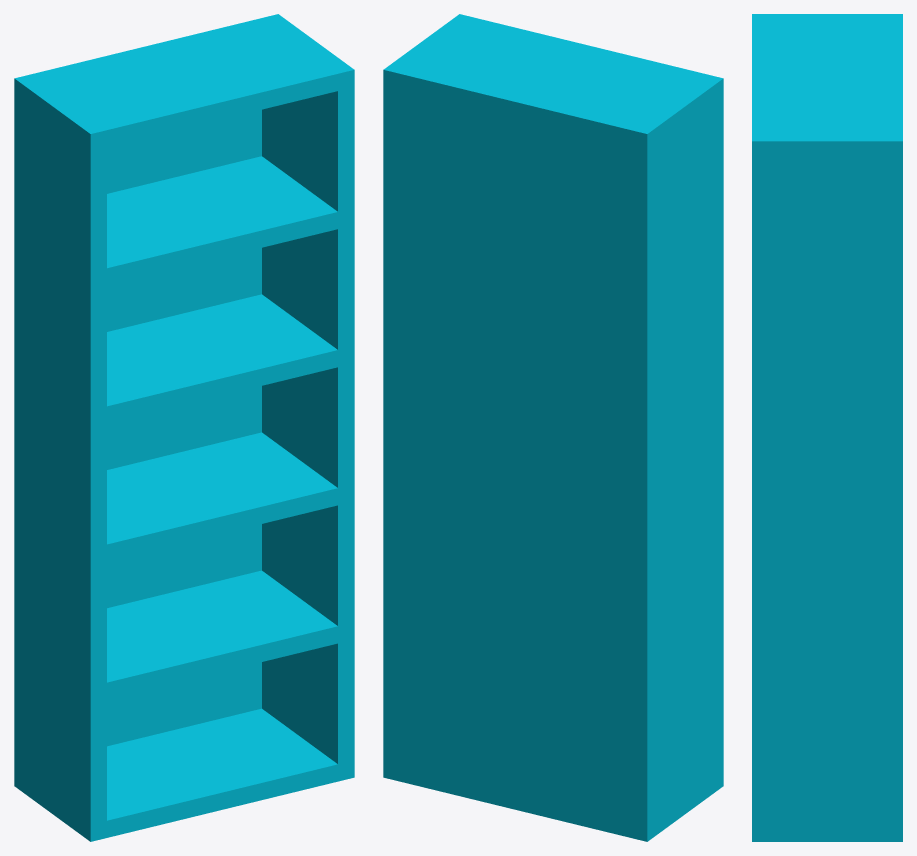
File: Large Shelf.glb
3 renders of one model, left to right at view 1: azimuth 30°, elevation 25°; view 2: azimuth 150°, elevation 25°; view 3: azimuth 270°, elevation 25°, orthographic.
Parts seen in each view (by area): view 1: LS Wall 1, LS Wall 3, LS Wall 2, Shelf 6, Shelf 1, Shelf 4, Shelf 2, Shelf 3, Shelf 5; view 2: LS Wall 2, LS Wall 1, Shelf 6, LS Wall 3, Shelf 1, Shelf 5, Shelf 4, Shelf 2, Shelf 3; view 3: LS Wall 3, Shelf 6, Shelf 5, Shelf 4, Shelf 3, Shelf 2.
Boxes of the visible parts, box(x1,y1,x2,y2) form: LS Wall 1: box(14, 96, 106, 841); LS Wall 3: box(262, 87, 354, 781); LS Wall 2: box(107, 109, 261, 746); Shelf 6: box(14, 14, 354, 151); Shelf 1: box(14, 708, 354, 841); Shelf 4: box(14, 294, 337, 427); Shelf 2: box(14, 570, 354, 703); Shelf 3: box(14, 432, 353, 561); Shelf 5: box(14, 156, 353, 289); LS Wall 2: box(383, 87, 630, 837); LS Wall 1: box(631, 96, 723, 841); Shelf 6: box(383, 14, 723, 151); LS Wall 3: box(383, 87, 399, 781); Shelf 1: box(383, 760, 723, 840); Shelf 5: box(383, 211, 723, 289); Shelf 4: box(383, 346, 723, 427); Shelf 2: box(383, 622, 723, 703); Shelf 3: box(383, 485, 723, 565); LS Wall 3: box(752, 158, 902, 841); Shelf 6: box(752, 14, 902, 158); Shelf 5: box(752, 278, 902, 295); Shelf 4: box(752, 415, 902, 431); Shelf 3: box(752, 551, 902, 568); Shelf 2: box(752, 688, 902, 705).
Bounding box in the file's own units: 50.8 × 130 × 25.4.
